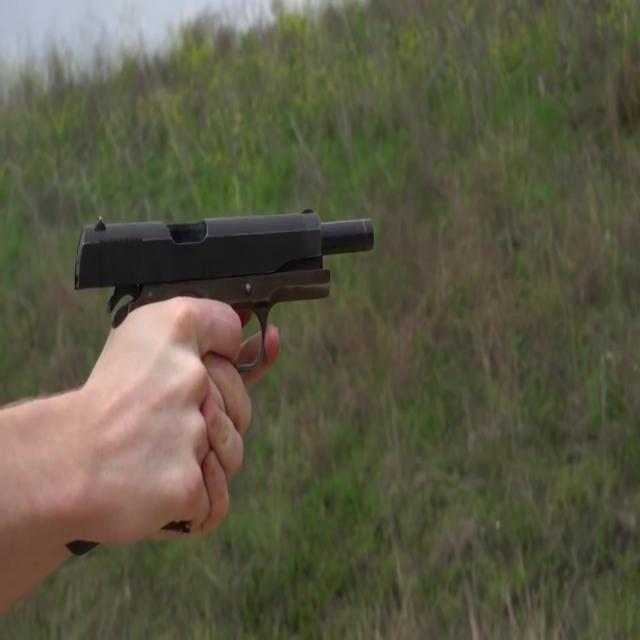Weapon: (56, 169, 416, 516)
